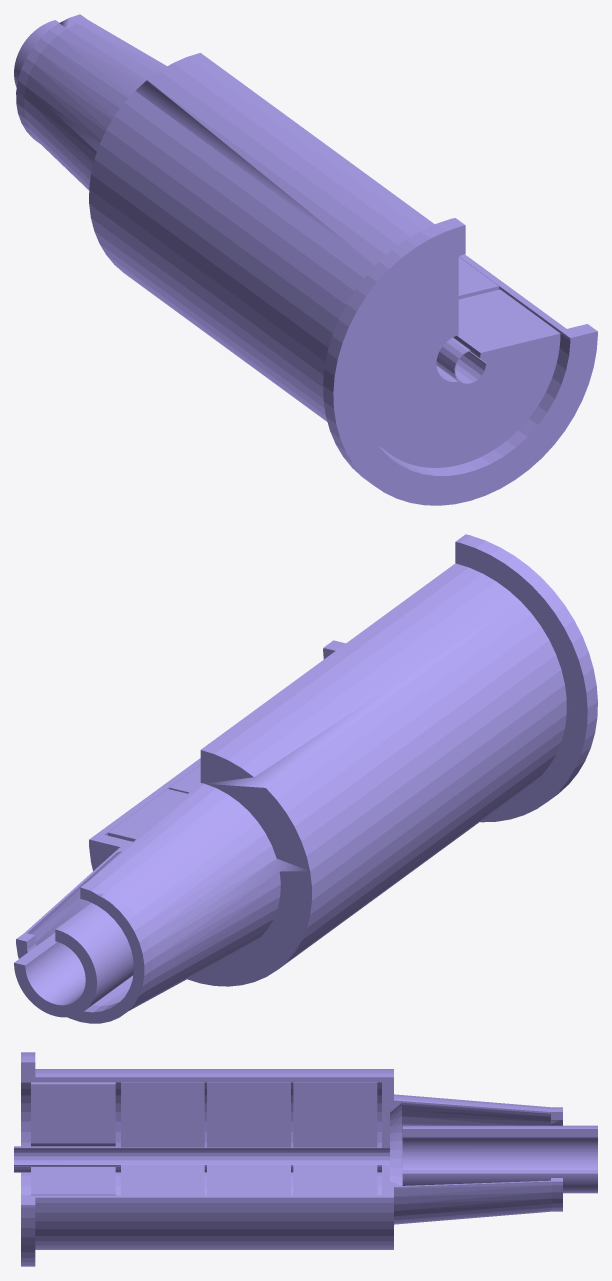
File: Lar-FCAL-SideA-cut4.glb
3 renders of one model, top to bottom at view 1: azimuth 30°, elevation 25°; view 2: azimuth 150°, elevation 25°; view 3: azimuth 270°, elevation 25°, orthographic. The views are drawn at different scales.
Parts seen in each view (by area): view 1: null; view 2: null; view 3: null.
Part boxes in pixels (x1,y1,x2,y2): null: [14, 14, 597, 505]; null: [14, 534, 597, 1023]; null: [14, 1052, 597, 1266].
Size of the model in its own units: 1.14 by 1.14 by 3.1.
